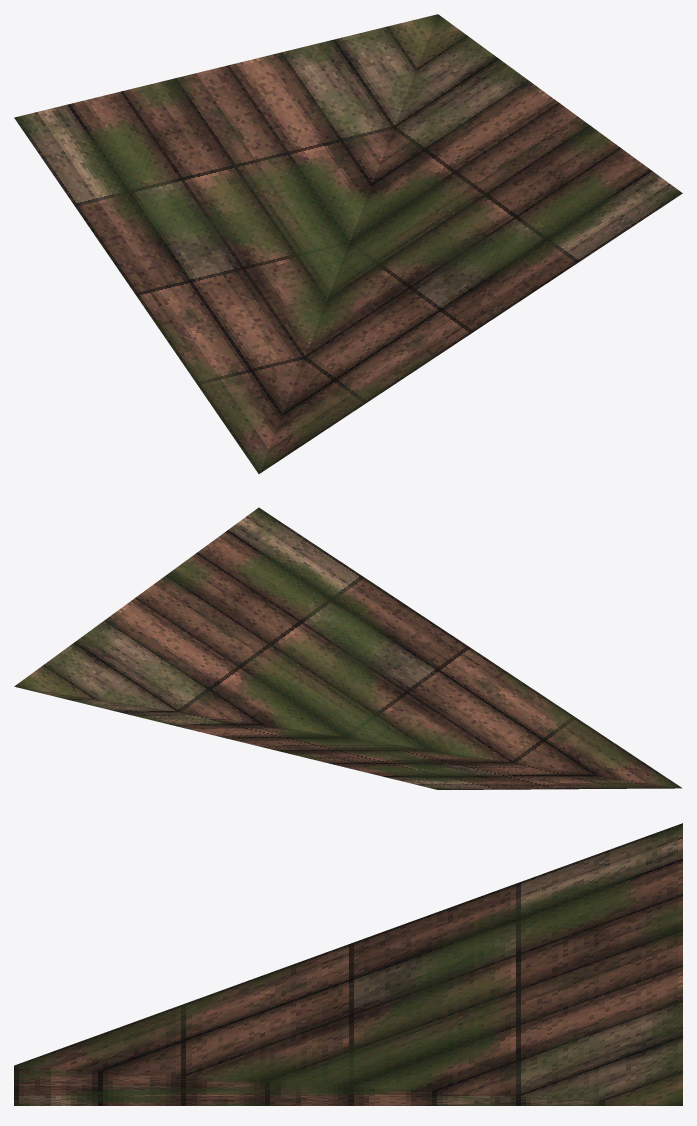
The model's file is roof_corner_inner.gltf.
The picture shows the model from 3 angles, top to bottom: view 1: azimuth 30°, elevation 25°; view 2: azimuth 150°, elevation 25°; view 3: azimuth 270°, elevation 25°; orthographic projection. The views are drawn at different scales.
Visible parts, largest first — view 1: roof_corner_inner-col; view 2: roof_corner_inner-col; view 3: roof_corner_inner-col.
Boxes of the visible parts, box(x1,y1,x2,y2) form: roof_corner_inner-col: box(14, 14, 682, 473); roof_corner_inner-col: box(14, 507, 682, 789); roof_corner_inner-col: box(14, 823, 682, 1105).
Size of the model in its own units: 2 by 0.82 by 2.
Materials: 2 (2 with a texture image).
